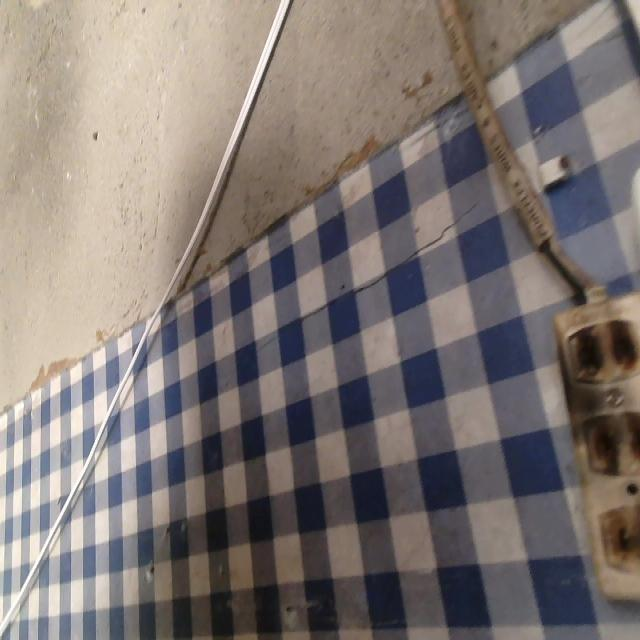-: (561, 314, 639, 386), (580, 406, 639, 478), (596, 504, 639, 569)
